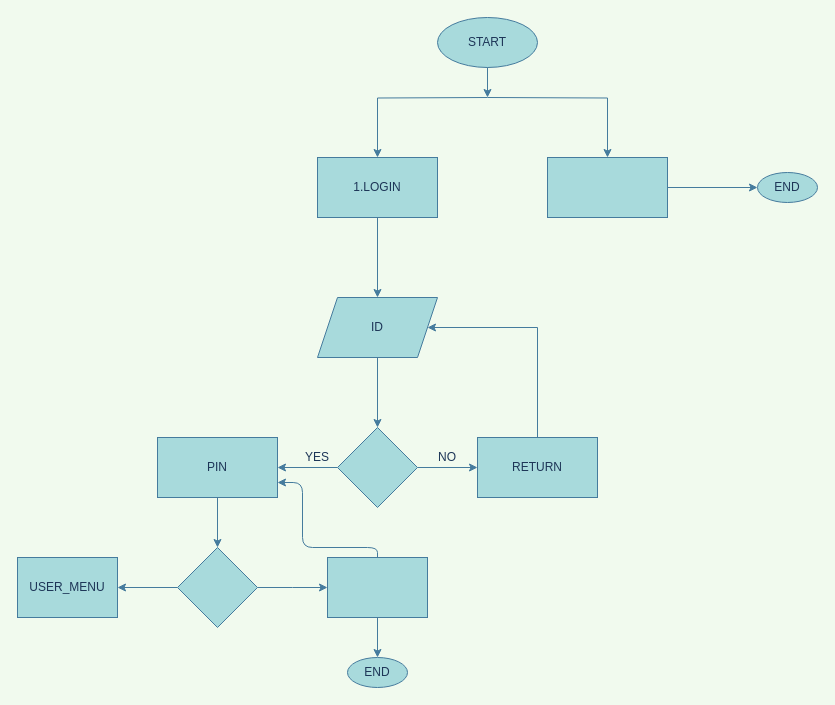
Image size: 835x705. Some labels were removed from this diagram. Each missing label, with the centre of its shape:
"2.EXIT" goes at [607,187].
"ID correct?" goes at [377,467].
"Pin Correct?" goes at [217,587].
"RETURN 3 X" goes at [377,587].
